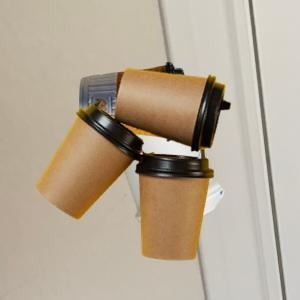cup: (36, 104, 145, 222), (112, 67, 233, 152), (135, 151, 214, 262)
